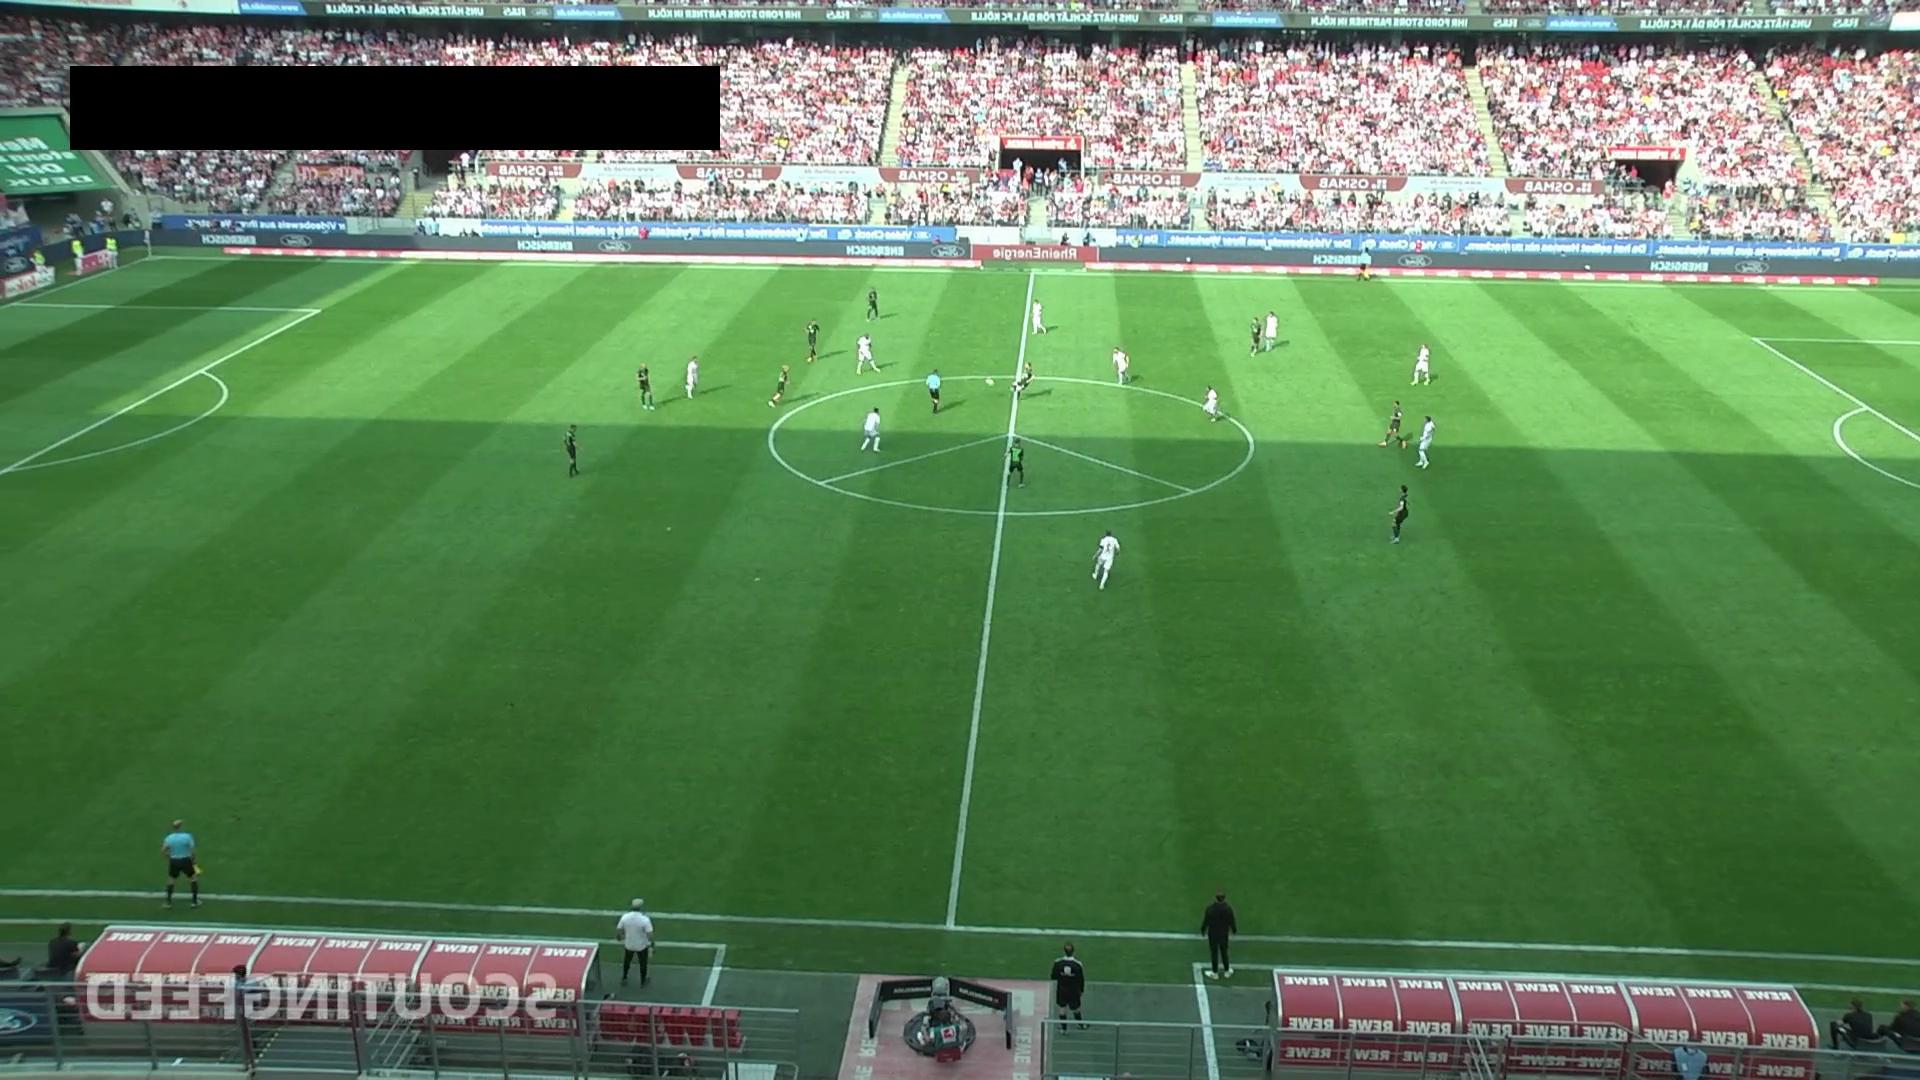ball: (984, 376, 997, 391)
player: (1091, 528, 1121, 590), (1379, 399, 1406, 448), (1389, 483, 1410, 544), (1414, 414, 1435, 469), (1007, 361, 1035, 401), (859, 406, 882, 452), (1005, 437, 1026, 487), (855, 332, 880, 374), (636, 362, 656, 410), (768, 364, 790, 406), (563, 424, 580, 477), (1411, 343, 1431, 385), (805, 319, 821, 363), (1112, 346, 1130, 385), (1262, 310, 1278, 353), (685, 355, 700, 399), (1202, 385, 1220, 421), (1032, 298, 1048, 335), (1248, 314, 1262, 355), (866, 288, 879, 320)
referee: (159, 818, 203, 908), (1354, 241, 1375, 283), (925, 367, 942, 413)
